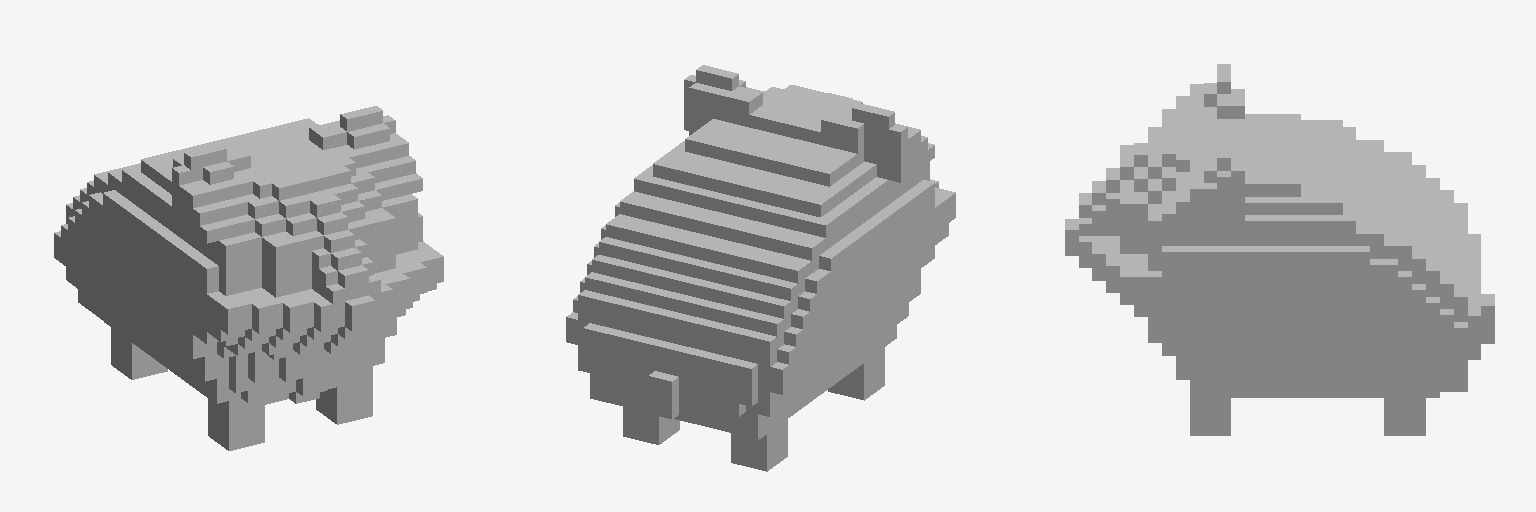
Rendered from ham5 1.obj.
The picture shows the model from 3 angles: view 1: azimuth 30°, elevation 25°; view 2: azimuth 150°, elevation 25°; view 3: azimuth 270°, elevation 25°; orthographic projection.
Visible parts, largest first — view 1: object 1; view 2: object 1; view 3: object 1.
Boxes of the visible parts, <box> form: object 1: <box>54,106,443,450</box>; object 1: <box>566,65,955,471</box>; object 1: <box>1065,64,1494,435</box>.
Bounding box in the file's own units: 1.8 × 2.3 × 3.1.